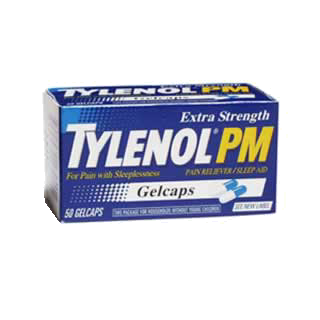grozi_60: (43, 80, 280, 224)
